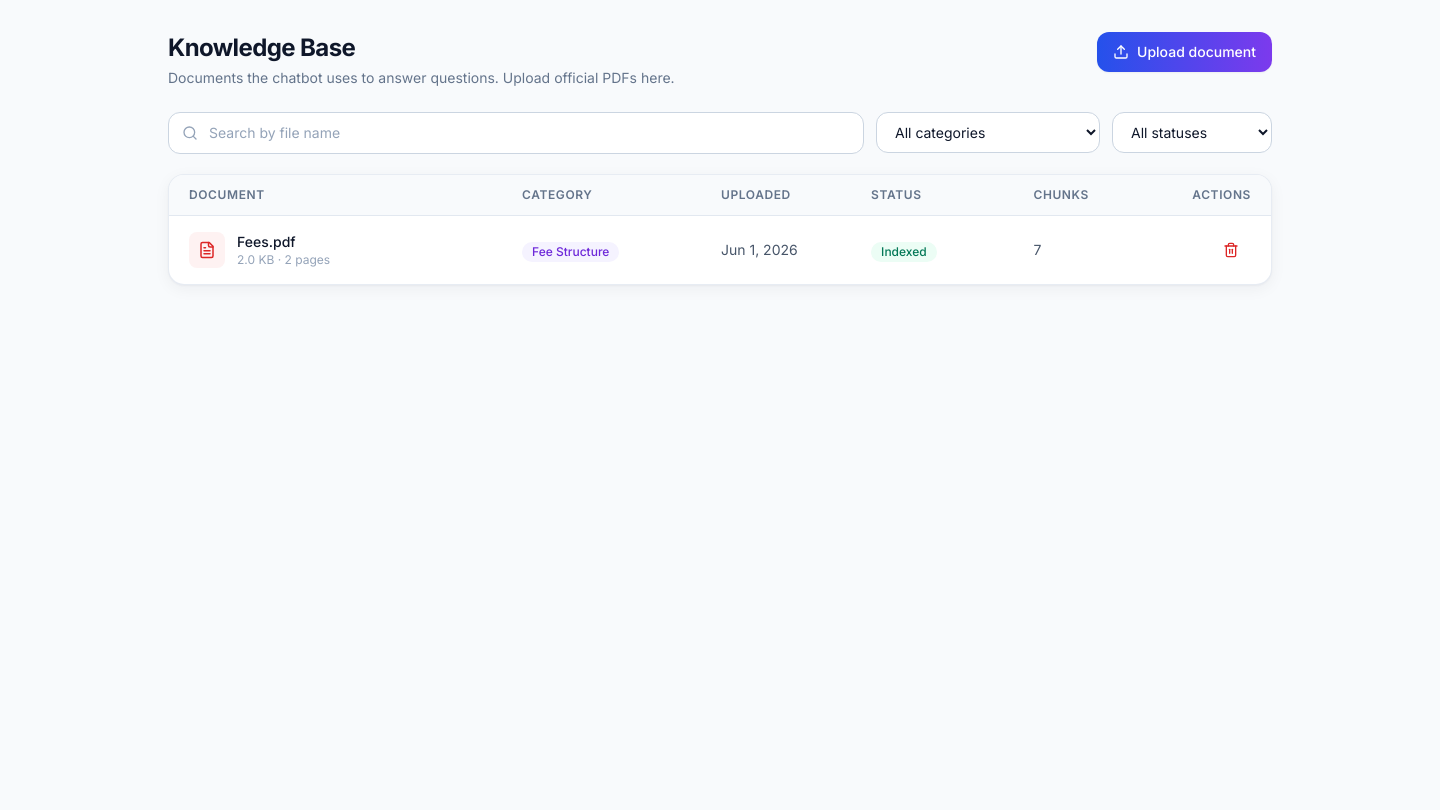
Test: Knowledge base › deletes only after the admin confirms
Click the button named "Delete Fees.pdf": (1231, 250) [1211,234,1251,266]
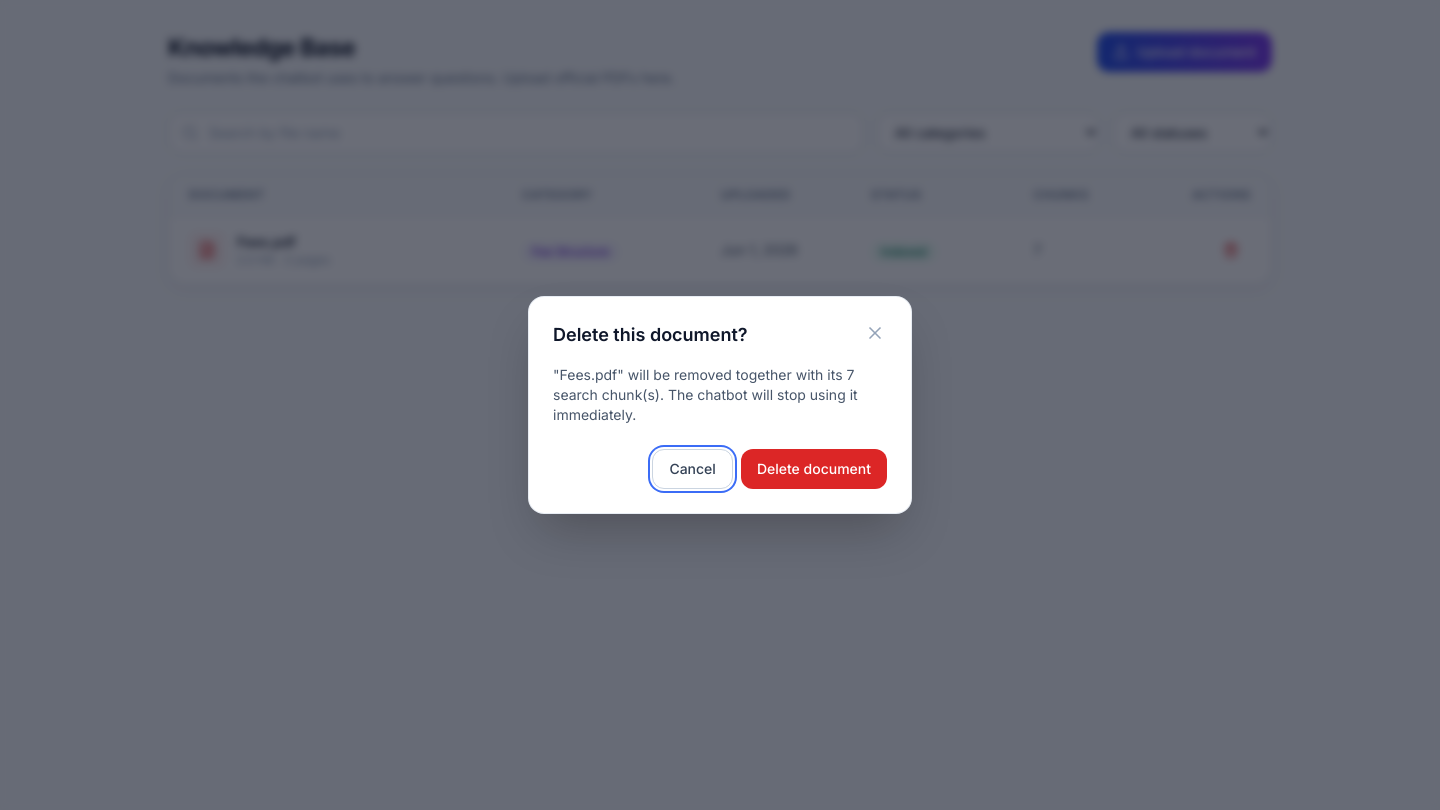
Now the text "7 search chunk" is shown, box [553,366,858,423]
Click the button "Cancel": (693, 469) [652,449,733,489]
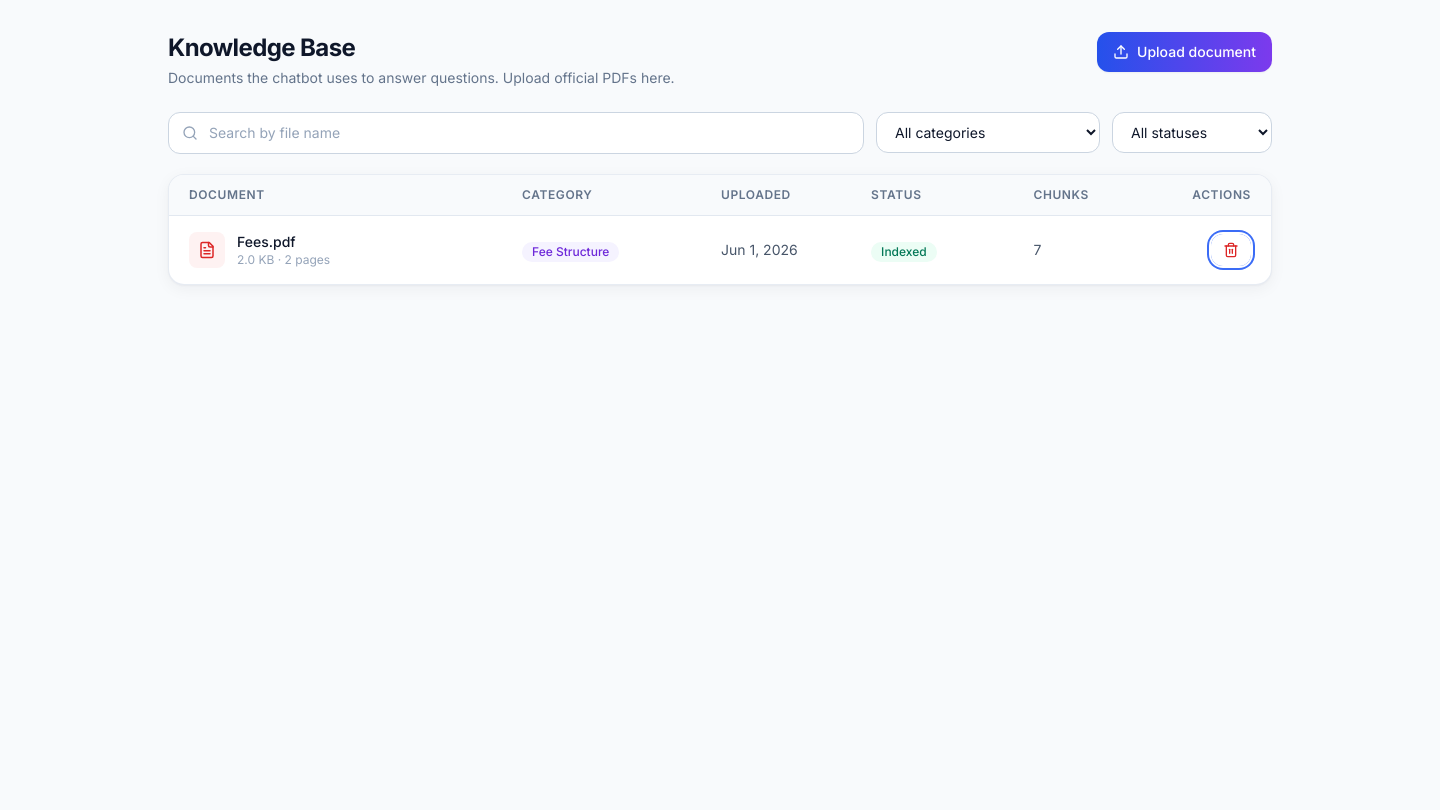
Click the button named "Delete Fees.pdf": (1231, 250) [1211,234,1251,266]
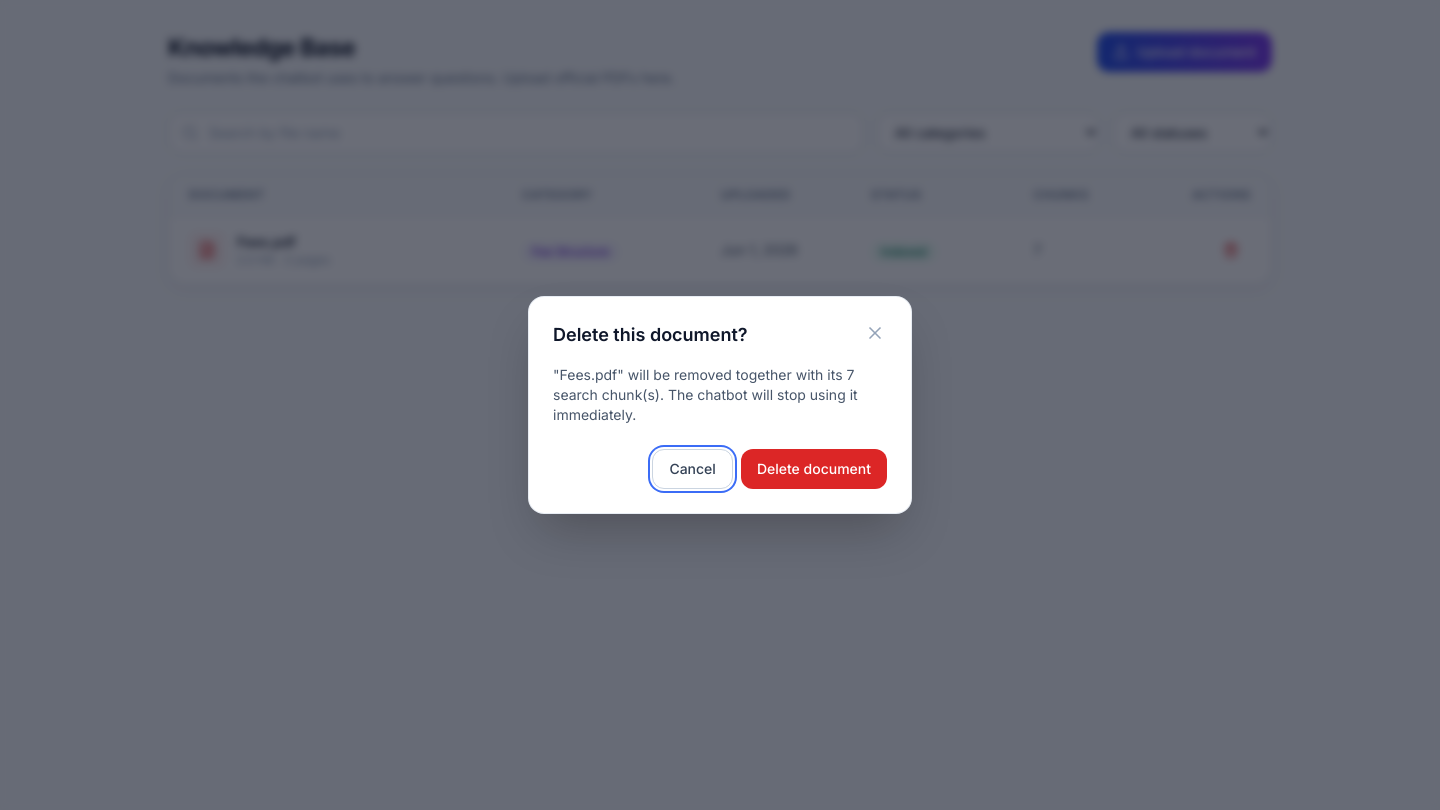
Click the button "Delete document": (814, 469) [741,449,887,489]
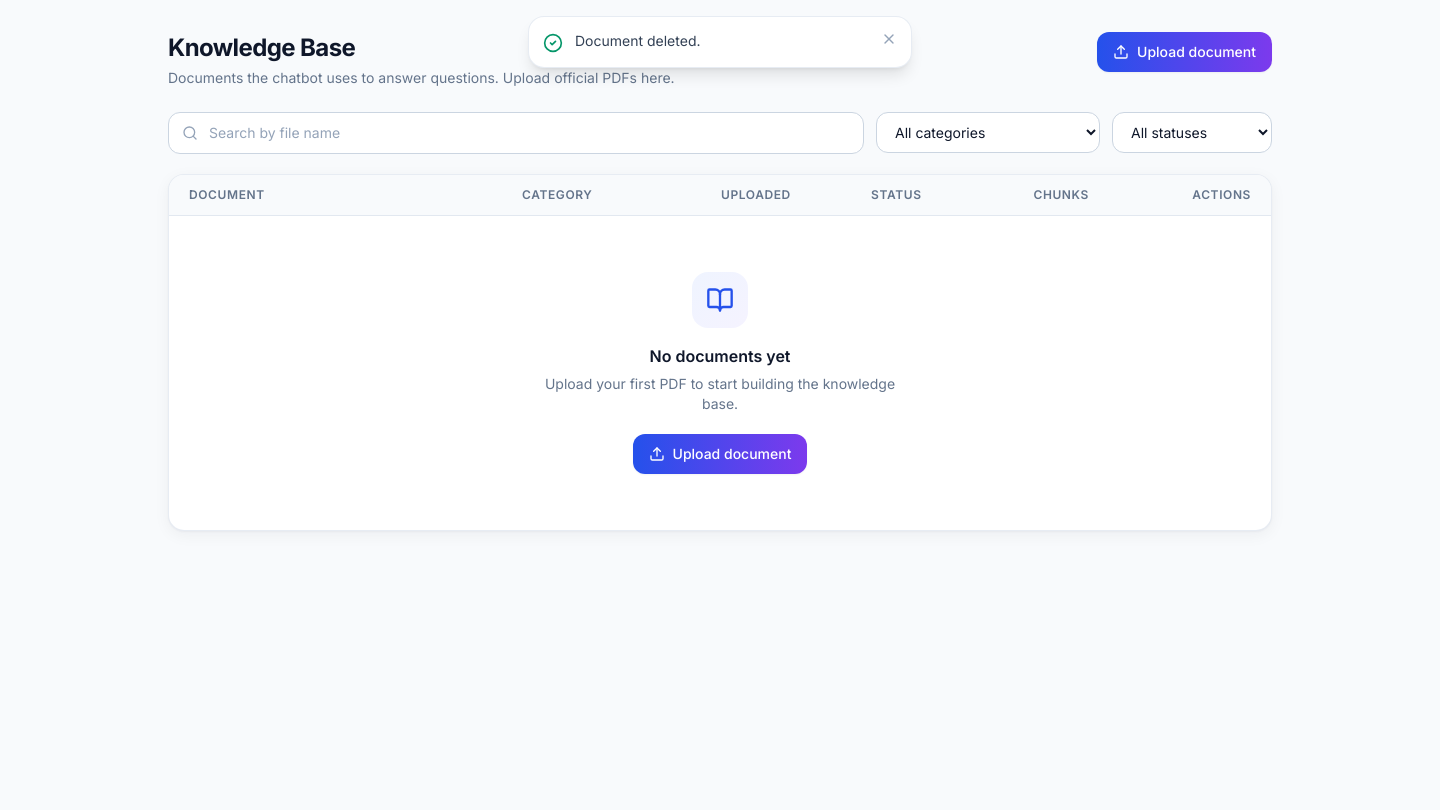
Now the heading "No documents yet" is shown, box [650,344,790,368]
